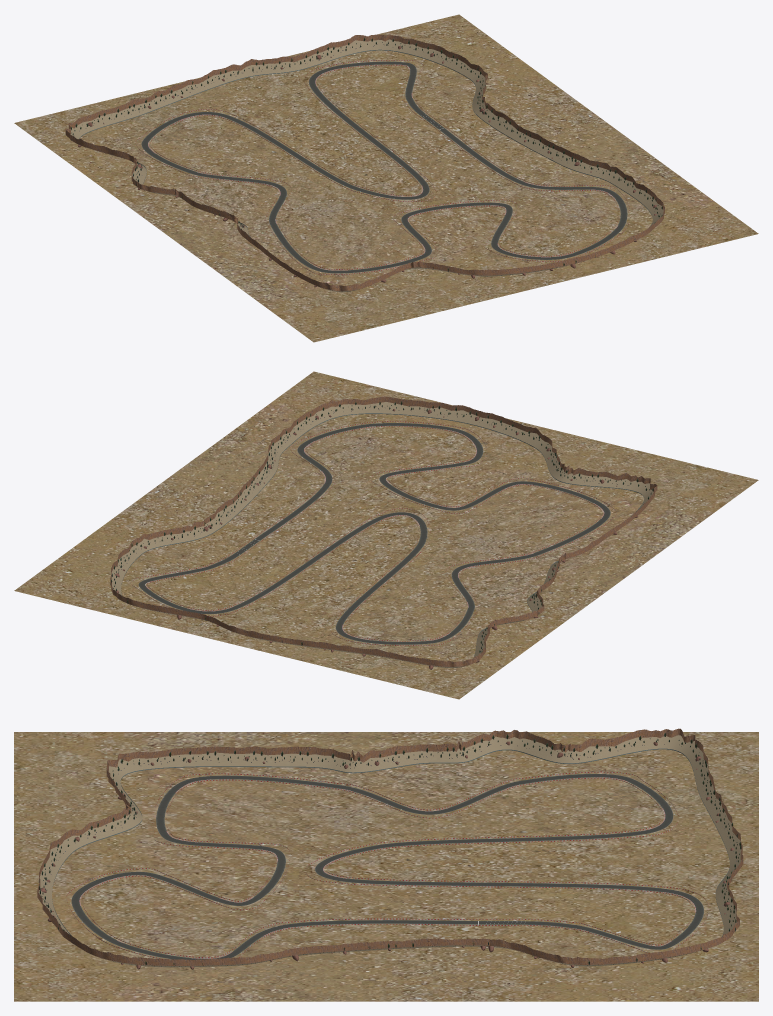
The picture shows the model from 3 angles, top to bottom: view 1: azimuth 30°, elevation 25°; view 2: azimuth 150°, elevation 25°; view 3: azimuth 270°, elevation 25°; orthographic projection. The views are drawn at different scales.
Visible parts, largest first — view 1: Plane, RaceTrack_Wall_00, RaceTrack_Main_00; view 2: Plane, RaceTrack_Wall_00, RaceTrack_Main_00; view 3: Plane, RaceTrack_Wall_00, RaceTrack_Main_00, RaceTrack_Curbs_00, RaceTrack_LeftRails_04, RaceTrack_LeftRails_00, RaceTrack_LeftRails_07, RaceTrack_LeftRails_08, RaceTrack_LeftRails_06, RaceTrack_LeftRails_05.
Part boxes in pixels (left/top/right/bottom): Plane: left=14, top=14, right=758, bottom=342; RaceTrack_Wall_00: left=65, top=34, right=664, bottom=292; RaceTrack_Main_00: left=141, top=61, right=627, bottom=273; Plane: left=14, top=371, right=758, bottom=699; RaceTrack_Wall_00: left=110, top=396, right=657, bottom=667; RaceTrack_Main_00: left=138, top=423, right=610, bottom=644; Plane: left=14, top=732, right=758, bottom=1001; RaceTrack_Wall_00: left=37, top=728, right=743, bottom=967; RaceTrack_Main_00: left=71, top=774, right=704, bottom=959; RaceTrack_Curbs_00: left=79, top=777, right=696, bottom=958; RaceTrack_LeftRails_04: left=176, top=773, right=445, bottom=818; RaceTrack_LeftRails_00: left=229, top=918, right=486, bottom=953; RaceTrack_LeftRails_07: left=305, top=839, right=446, bottom=886; RaceTrack_LeftRails_08: left=447, top=881, right=706, bottom=906; RaceTrack_LeftRails_06: left=438, top=803, right=678, bottom=844; RaceTrack_LeftRails_05: left=439, top=771, right=670, bottom=815.
Bounding box in the file's own units: 1200 × 35.35 × 1400.
